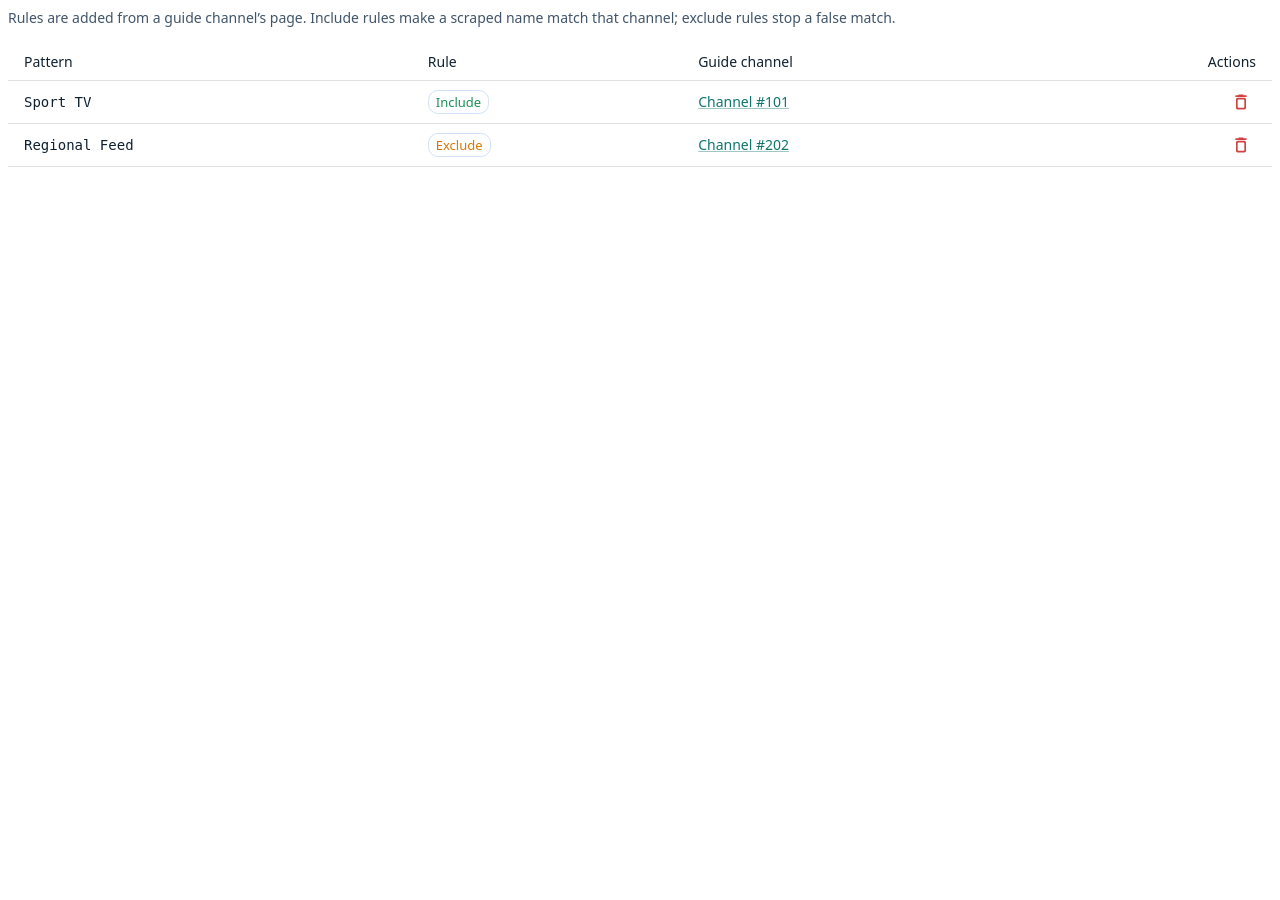
EPG RulesTab › confirms before deleting a rule
Click the button named "Delete mapping Sport TV" at x=1241, y=102, box [1226, 87, 1256, 117]
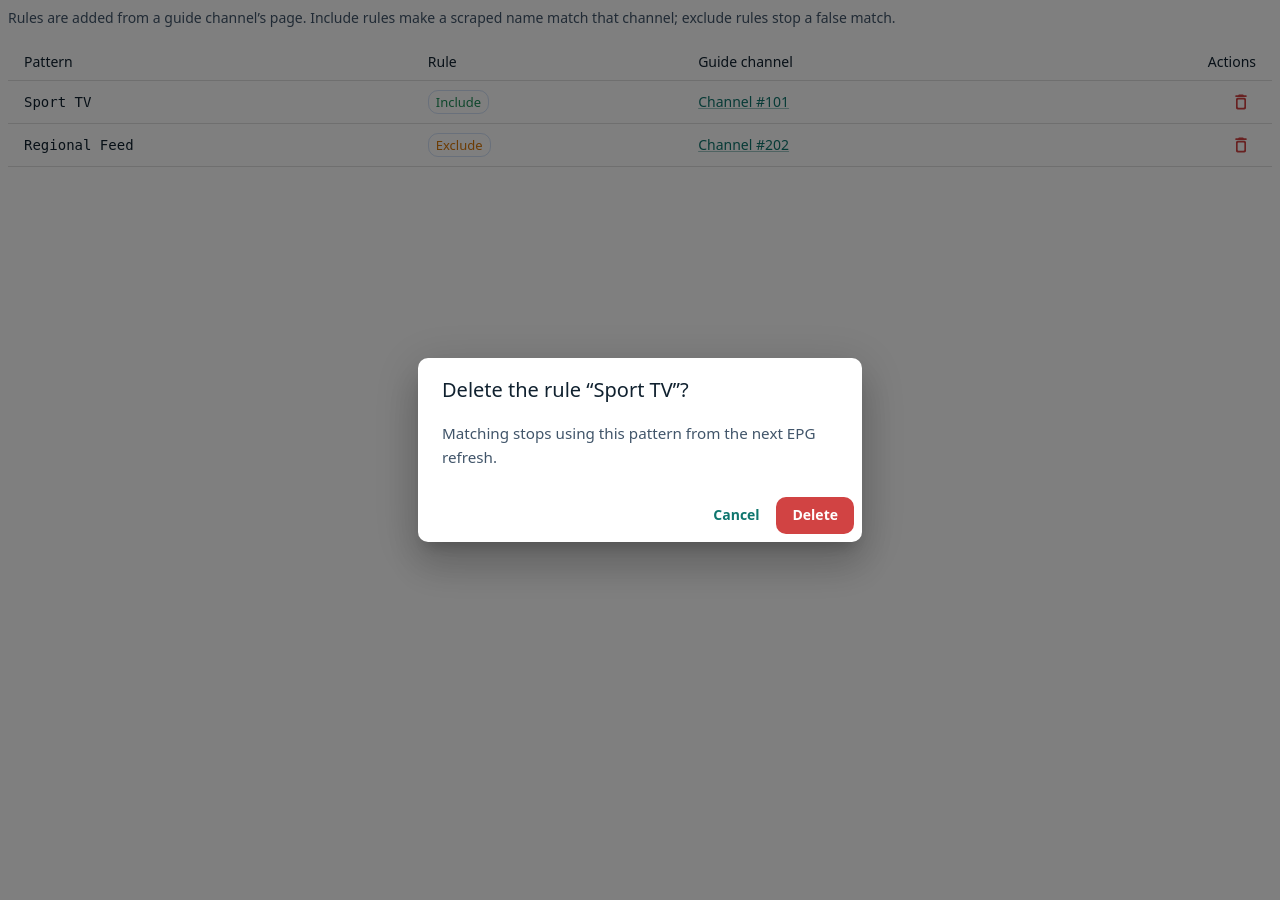
Click the button "Delete" at x=815, y=516, box [776, 497, 854, 534]
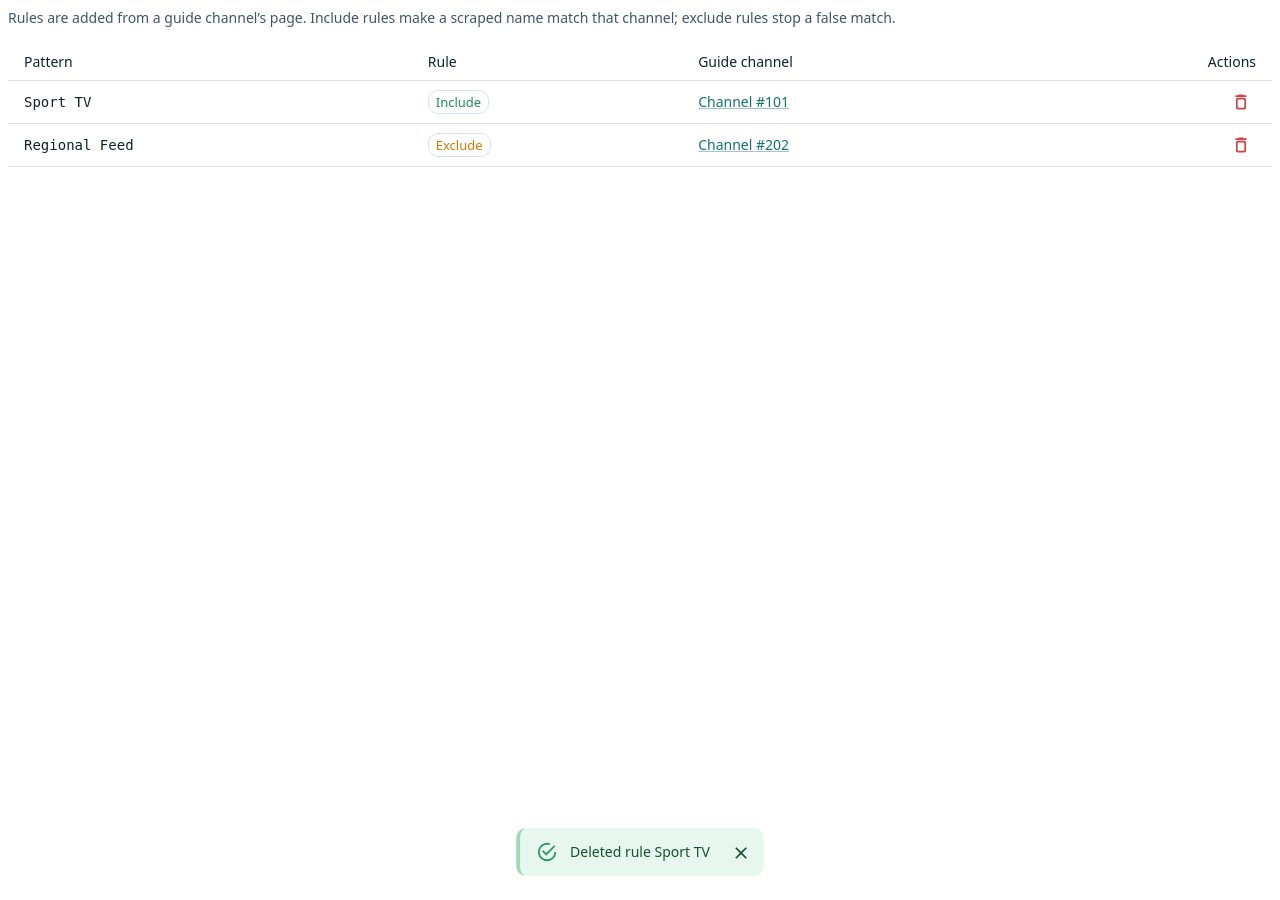
Expected: the text "Deleted rule Sport TV" is shown, [570, 842, 710, 861]
